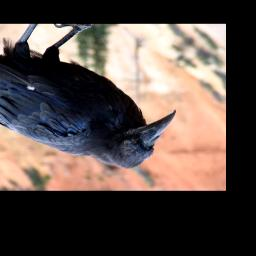Crow: (0, 24, 177, 173)
